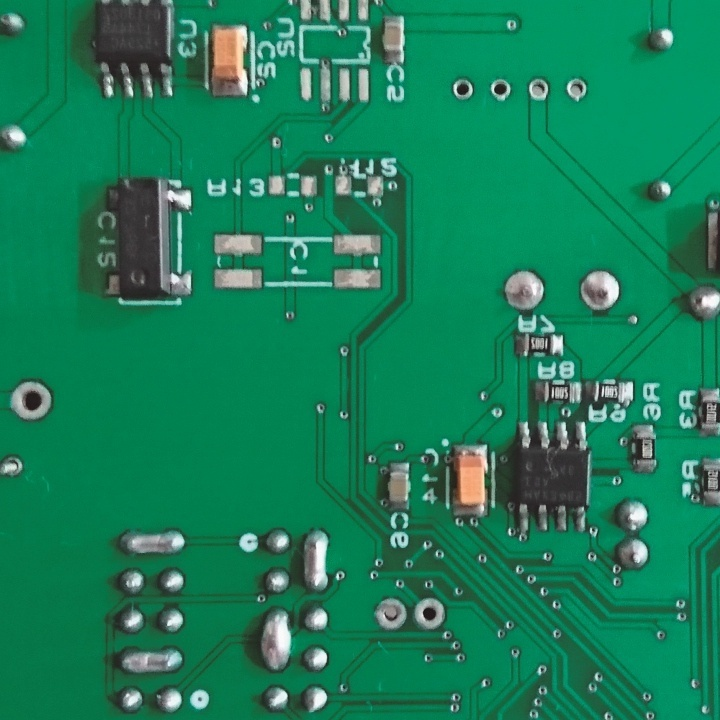F: (8, 378, 58, 427), (576, 264, 623, 314), (501, 267, 550, 312), (368, 593, 410, 631), (410, 595, 446, 631), (450, 74, 476, 103), (523, 75, 549, 103), (564, 75, 590, 103), (487, 77, 513, 104), (1, 453, 27, 480)
P: (115, 524, 186, 559), (116, 642, 183, 675), (256, 606, 289, 669), (300, 526, 330, 595)
